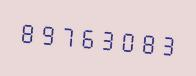eight: (137, 23, 156, 61), (17, 13, 36, 50)
nine: (37, 14, 56, 52)
seven: (57, 16, 76, 54)
six: (77, 18, 96, 55)
three: (97, 20, 116, 57), (157, 25, 176, 62)
zero: (117, 21, 136, 59)
